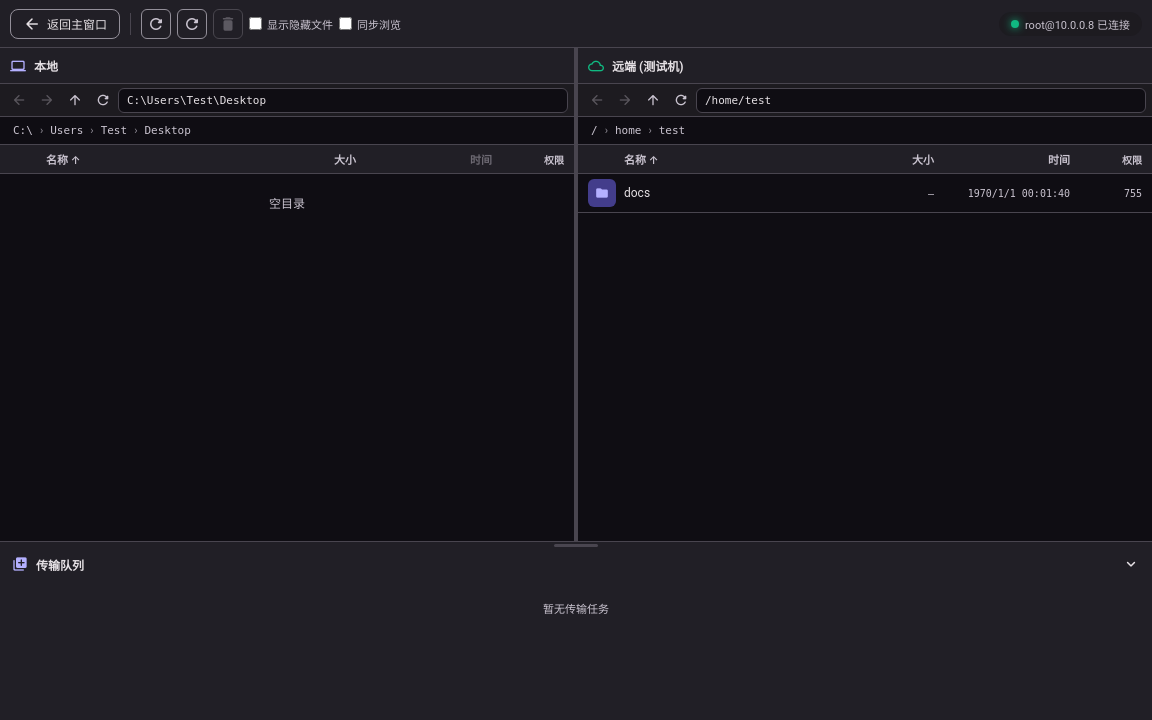
Test: SFTP 导航、排序与隐藏文件 › 支持目录前进后退和面包屑导航
The width and height of the screenshot is (1152, 720).
Double-click the text "docs" at (637, 193), box [624,186,650,200]
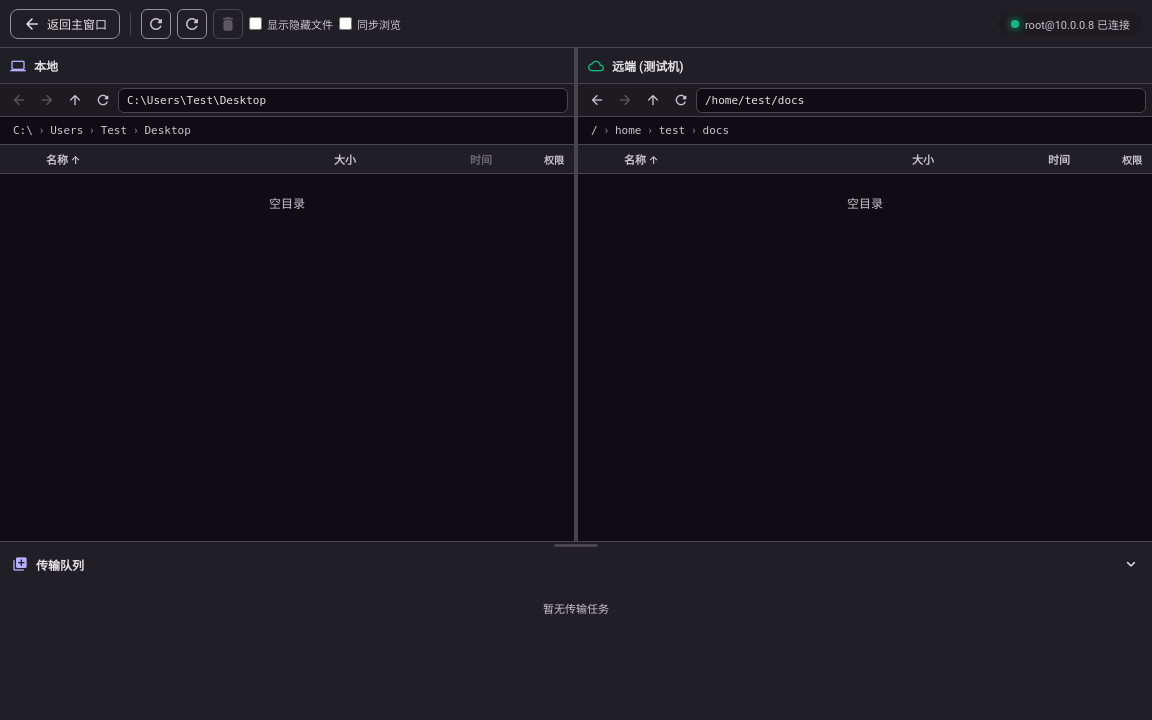
Expected: the field named "远端路径" holds "/home/test/docs", [696,88,1146,112]
Click the button named "远端后退" at (597, 100), box [584,87,610,113]
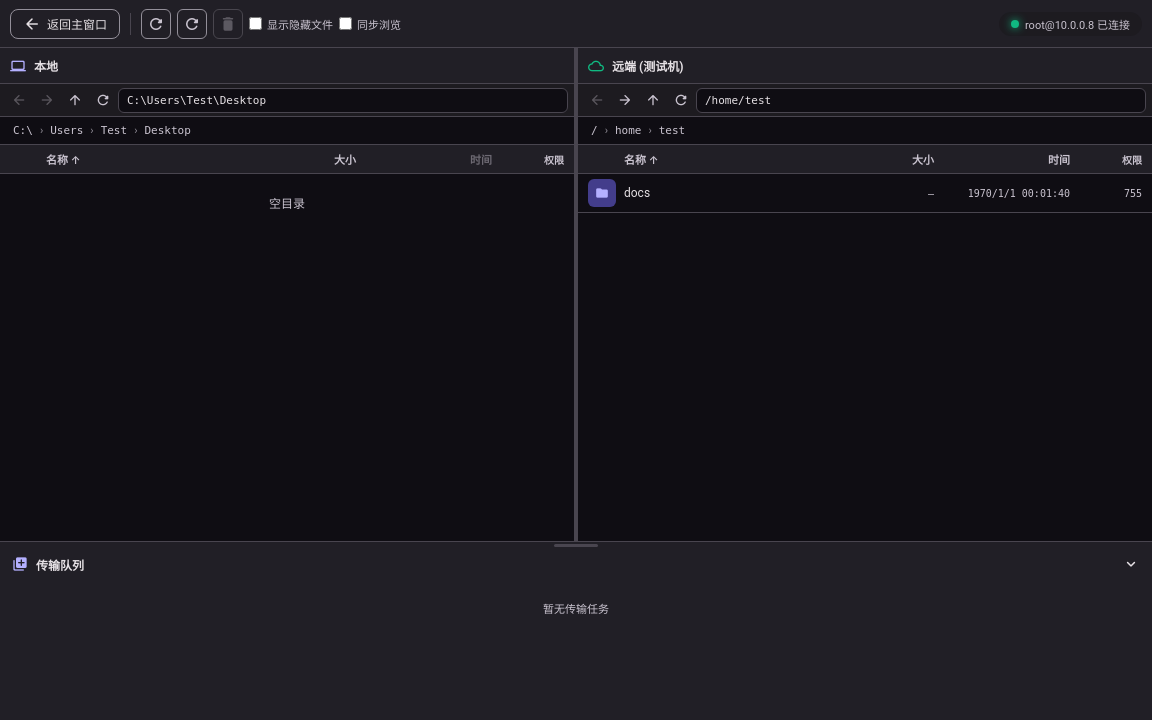
Expected: the field named "远端路径" holds "/home/test", [696,88,1146,112]
Click the button named "远端前进" at (625, 100), box [612,87,638,113]
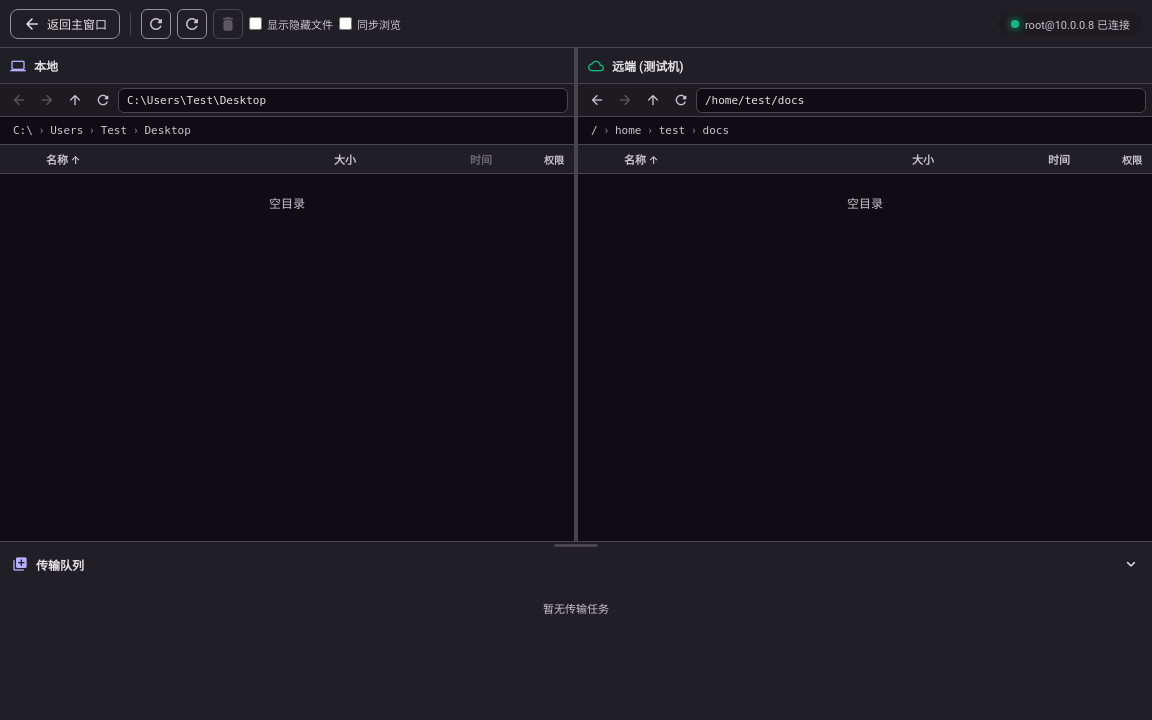
Expected: the field named "远端路径" holds "/home/test/docs", [696,88,1146,112]
Click the button "test" at (672, 130), box [654,121,690,140]
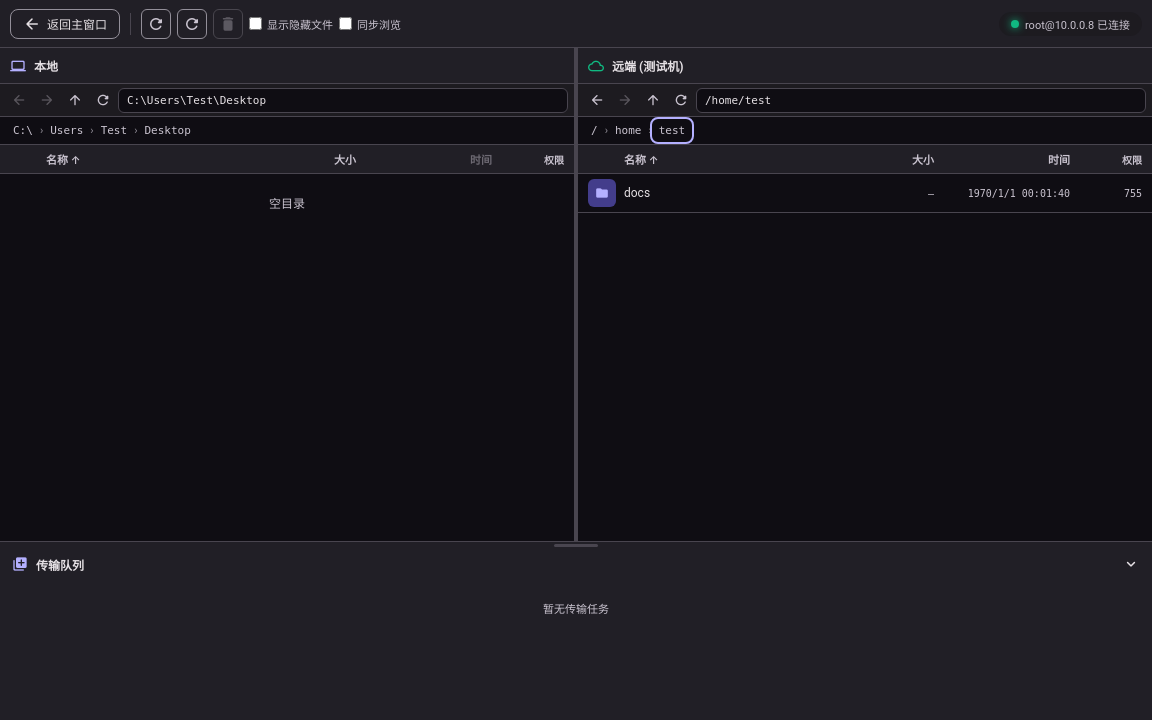
Expected: the field named "远端路径" holds "/home/test", [696,88,1146,112]
